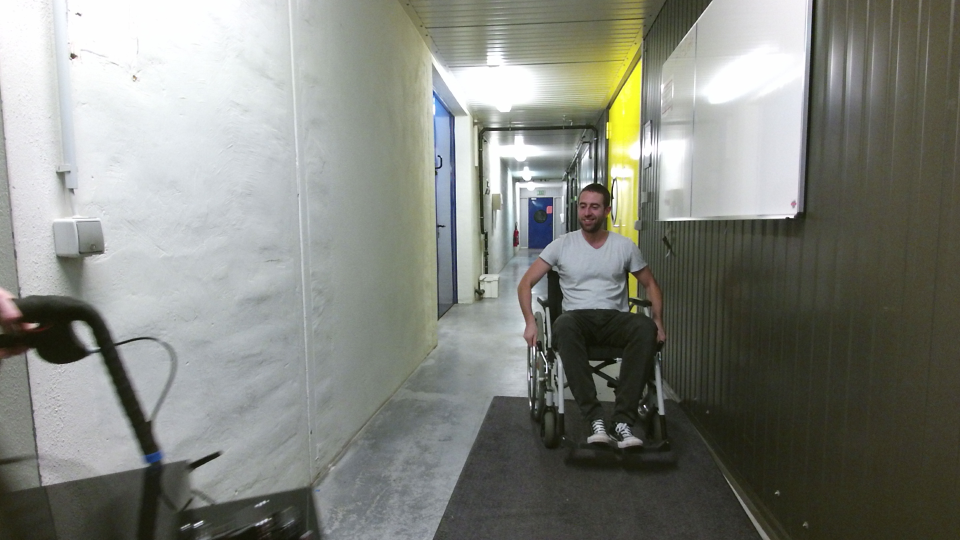wheelchair: (514, 169, 669, 472)
